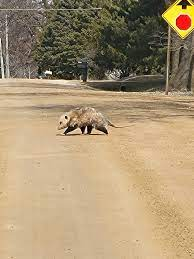opossum: (56, 106, 137, 138)
